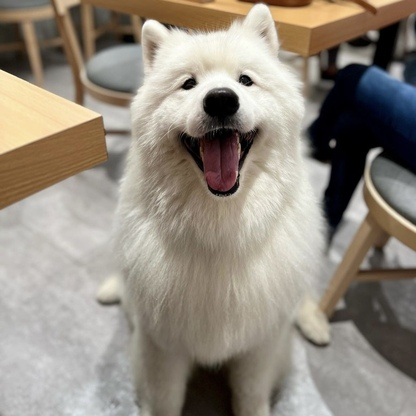samoyed: (88, 1, 344, 416)
